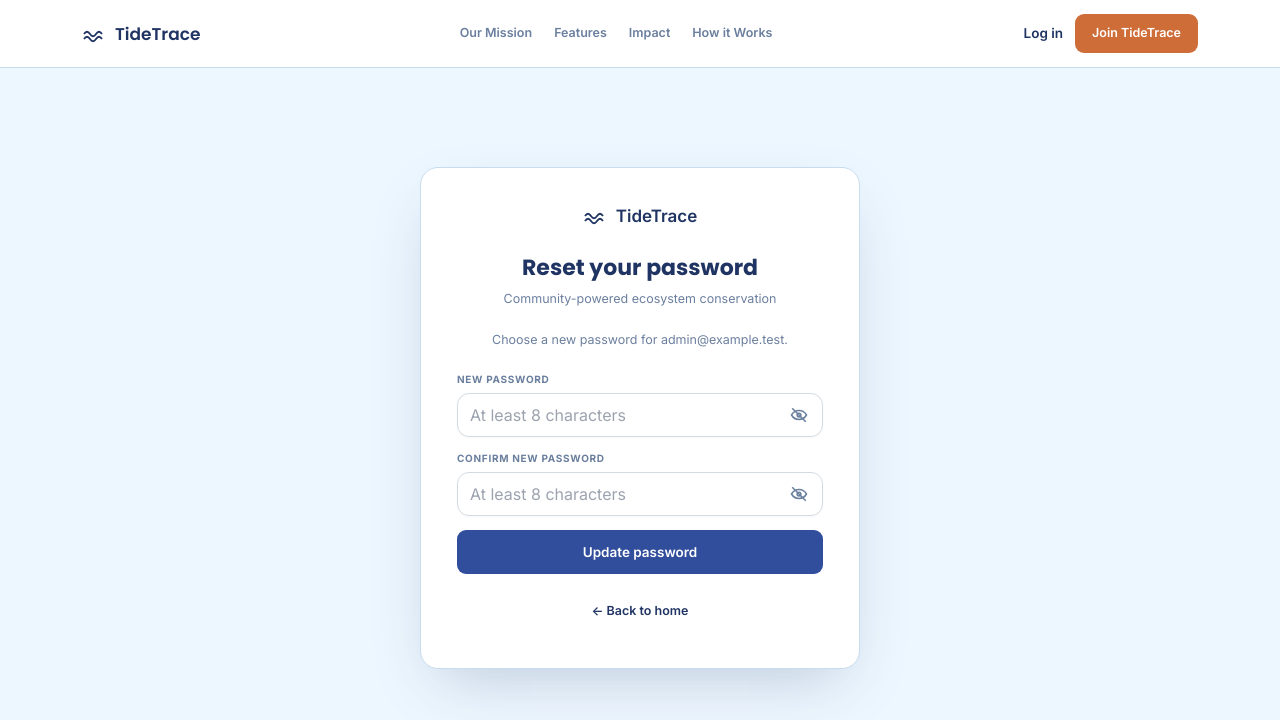
saves the new password with the recovery token then returns to login
Type "a-new-strong-password-42" into the password field labelled "New password" at (640, 414), box [457,392,823,436]
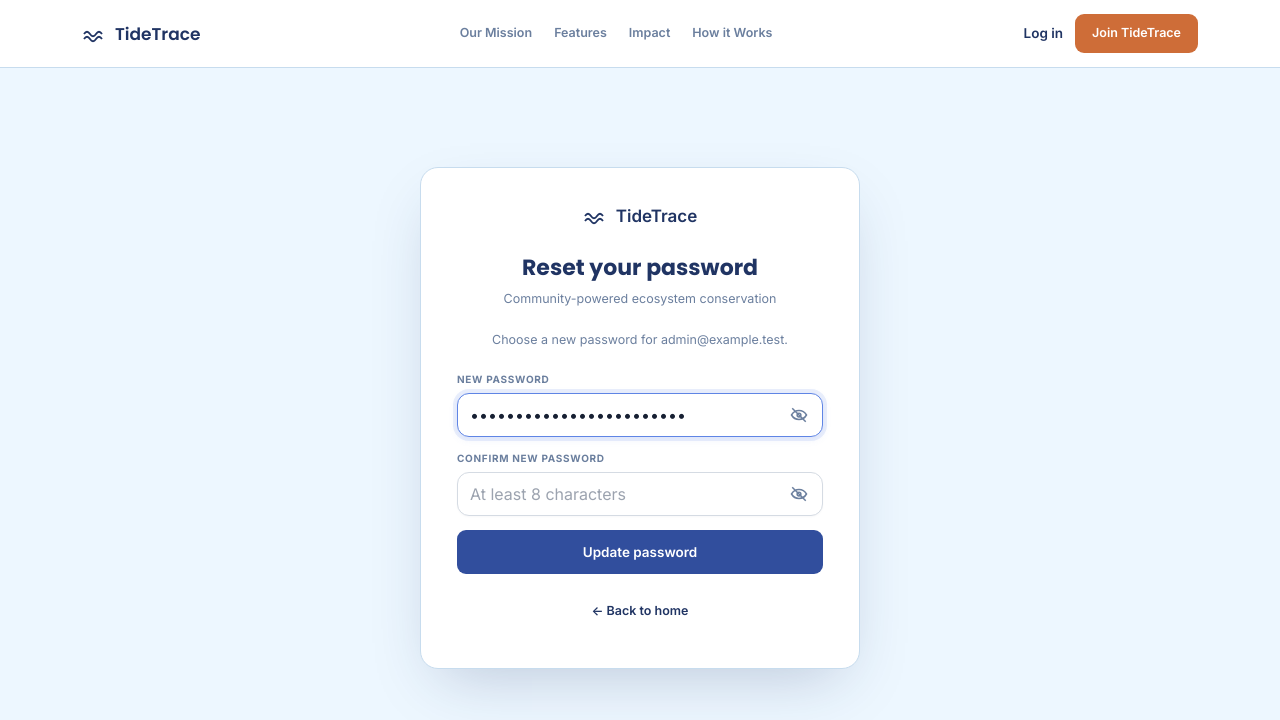
Type "a-new-strong-password-42" into the password field labelled "Confirm new password" at (640, 494), box [457,472,823,516]
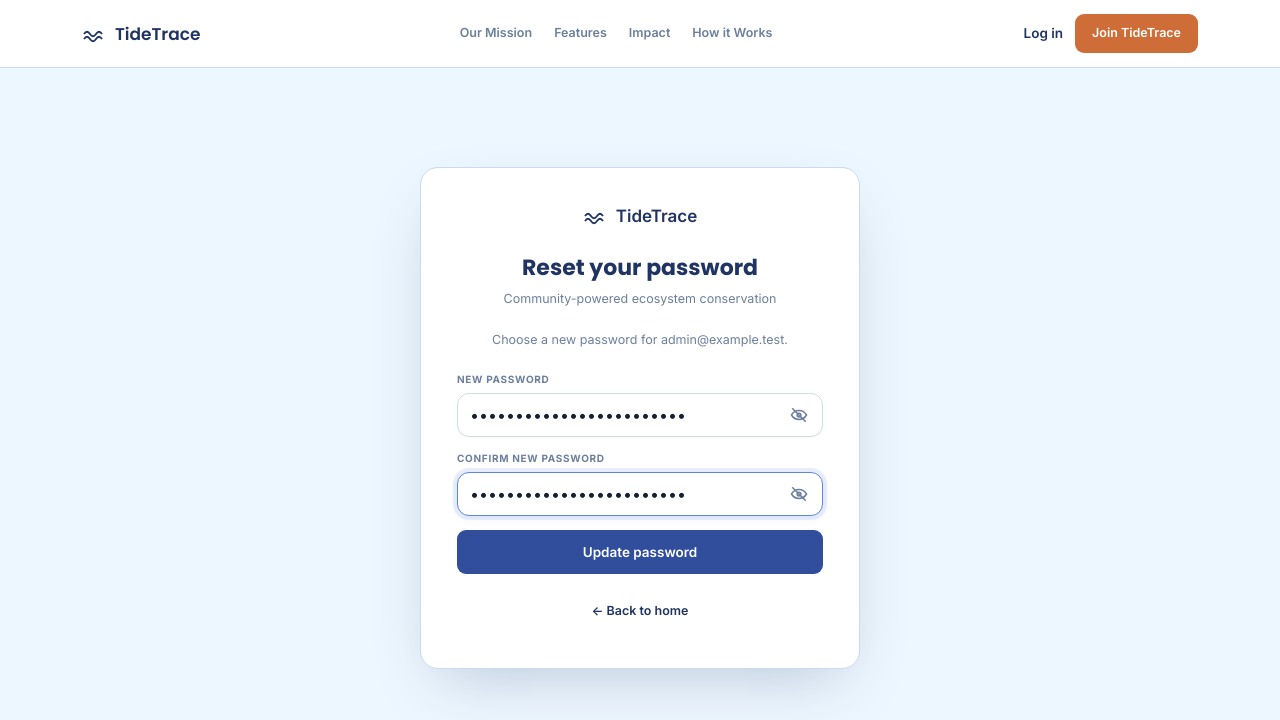
Click the button "Update password" at (640, 552), box [457,530,823,574]
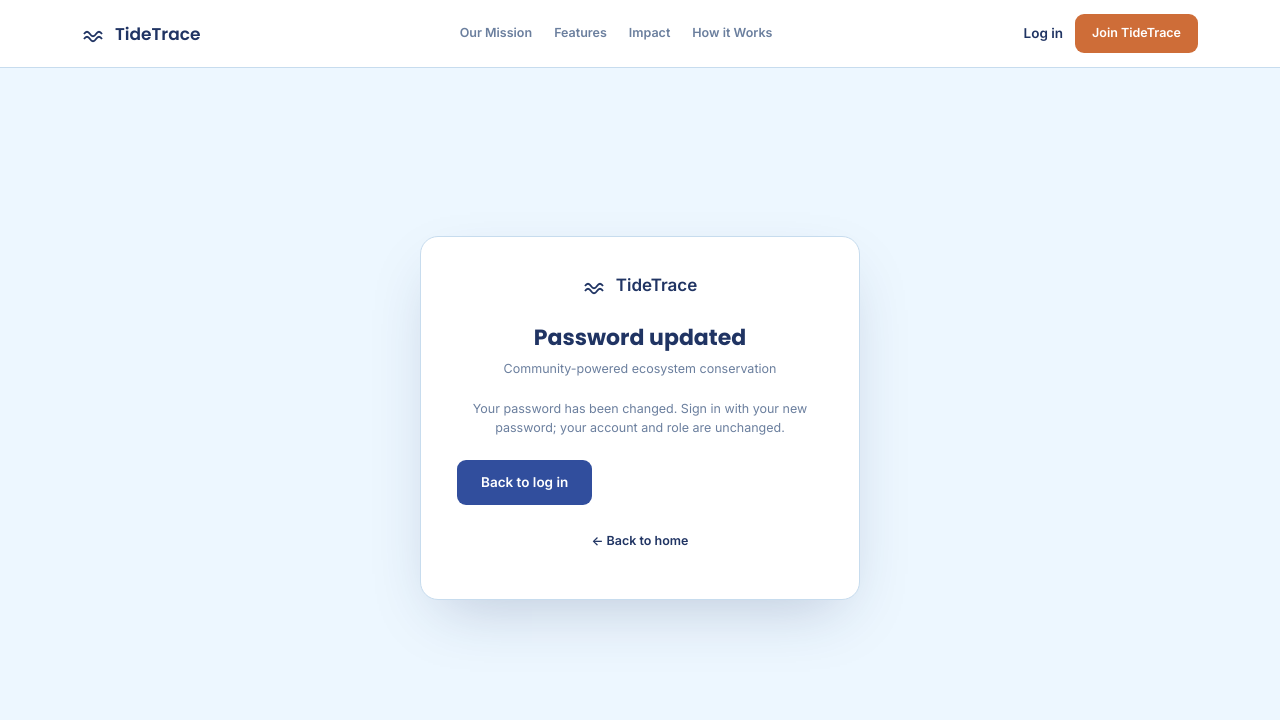
Check: the heading "Password updated" is shown, box [534,322,746,353]
Click the link "Back to log in" at (525, 482), box [457,460,592,505]
(page scrolled)
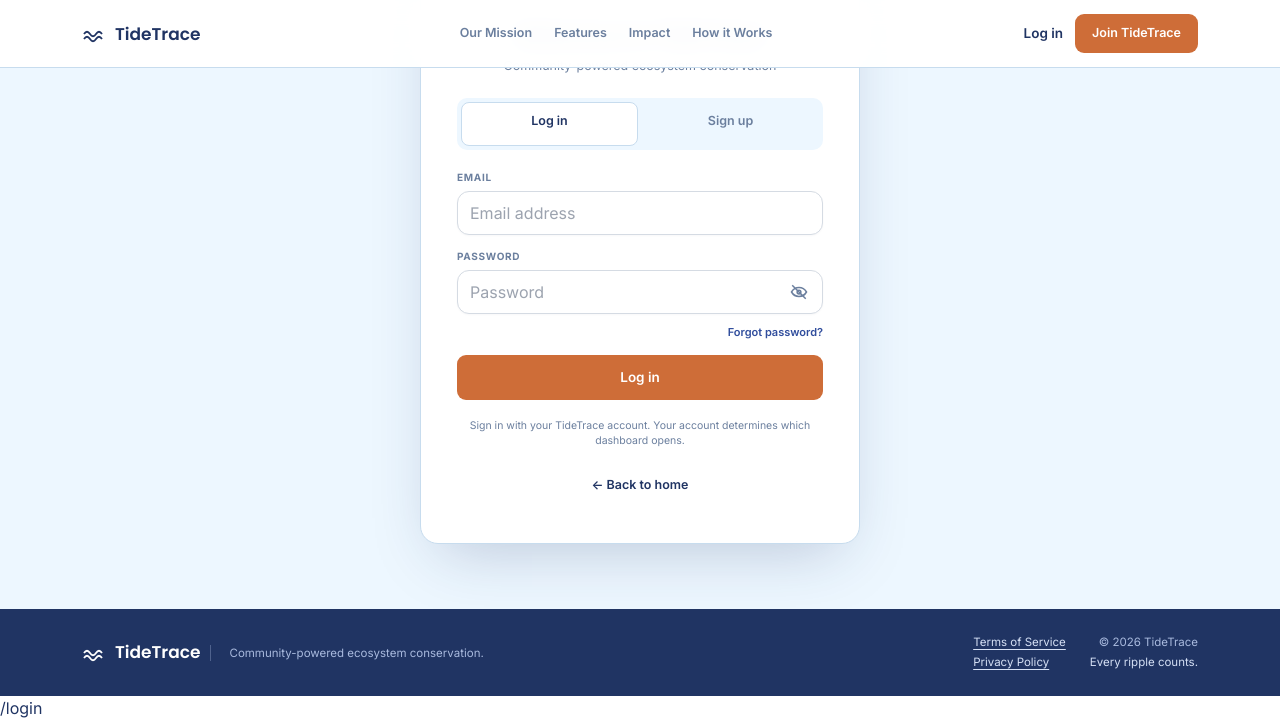
Check: the text with test id "route" reads "/login", box [0,698,42,718]
